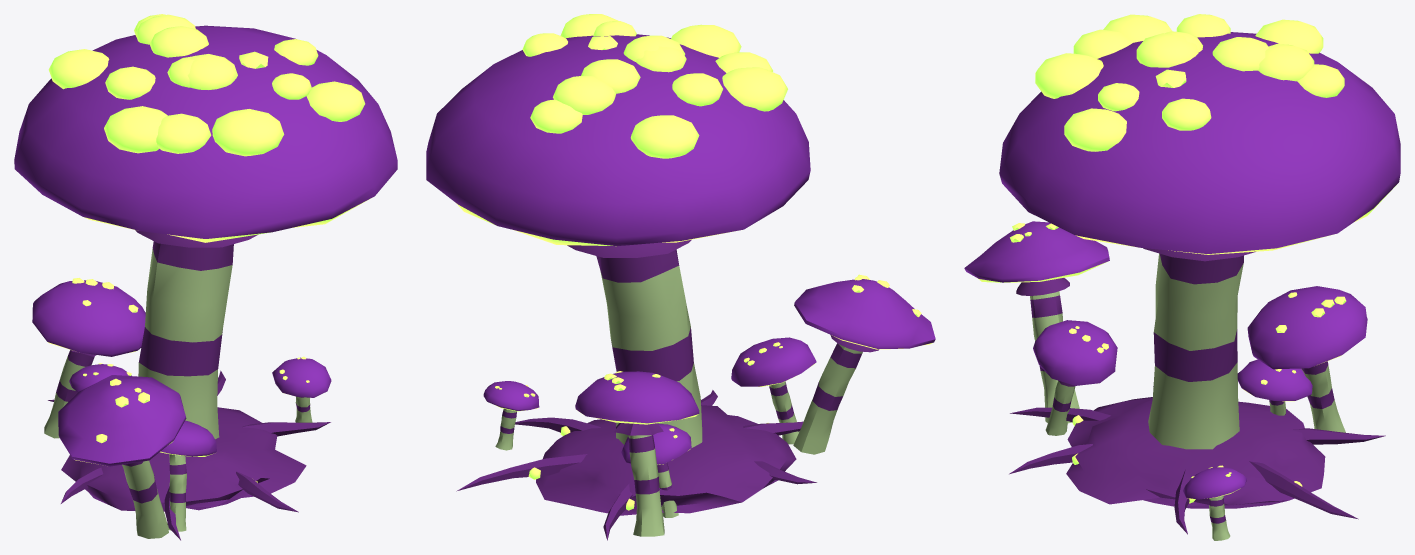
Rendered from mushroom_toxic_a.glb.
The picture shows the model from 3 angles, left to right: view 1: azimuth 30°, elevation 25°; view 2: azimuth 150°, elevation 25°; view 3: azimuth 270°, elevation 25°; orthographic projection. The views are drawn at different scales.
Visible parts, largest first — view 1: mushroom_toxic_a; view 2: mushroom_toxic_a; view 3: mushroom_toxic_a.
Boxes of the visible parts, x1=… form: mushroom_toxic_a: x1=14, y1=14, x2=397, y2=540; mushroom_toxic_a: x1=426, y1=14, x2=935, y2=540; mushroom_toxic_a: x1=964, y1=14, x2=1400, y2=540.
Size of the model in its own units: 4.6 by 4.66 by 4.21.
